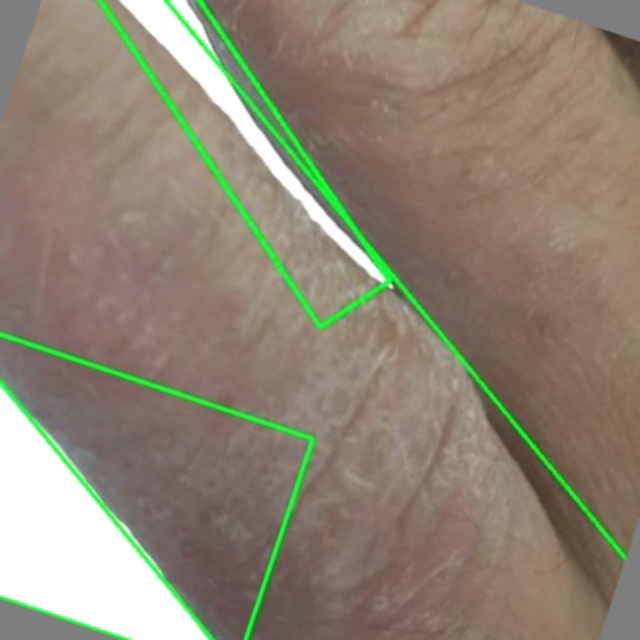Contact Dermatitis: (0, 0, 604, 639), (91, 0, 388, 328), (0, 334, 313, 639)
